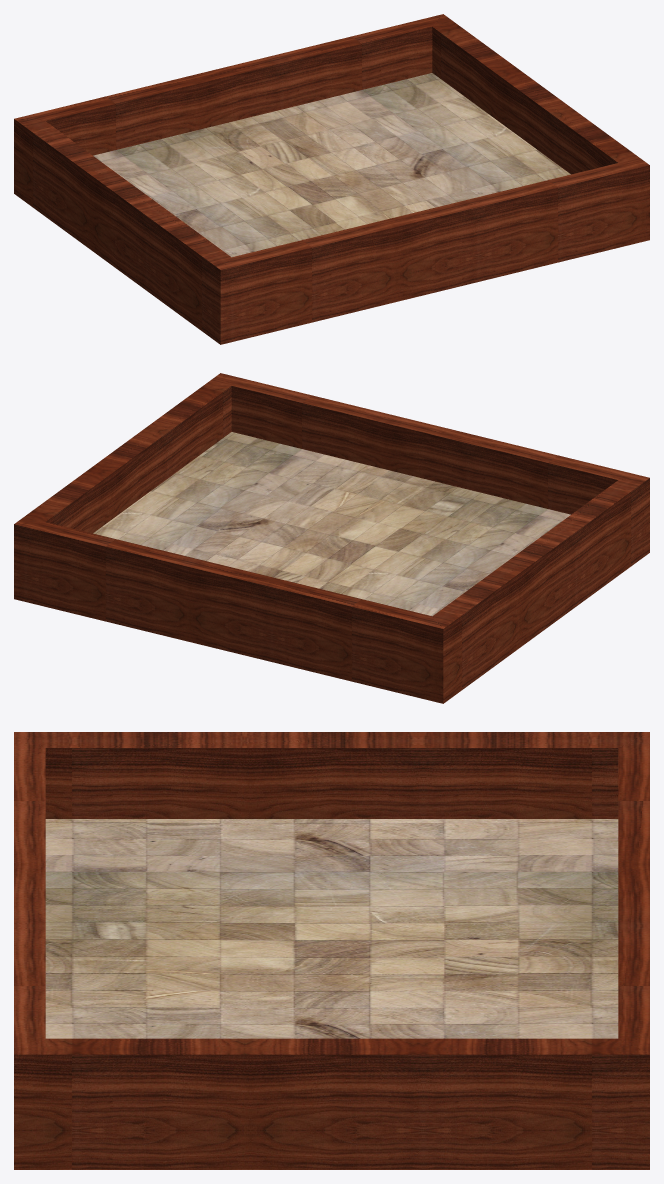
The model's file is diceboard.FBX.
3 views of the same model, one above another, from view 1: azimuth 30°, elevation 25°; view 2: azimuth 150°, elevation 25°; view 3: azimuth 270°, elevation 25° (orthographic). The views are drawn at different scales.
Visible parts, largest first — view 1: Box001; view 2: Box001; view 3: Box001.
Part boxes in pixels (x1,y1,x2,y2): Box001: (14, 14, 649, 344); Box001: (14, 373, 649, 703); Box001: (14, 732, 649, 1169).
Size of the model in its own units: 12 by 2 by 10.
2 materials, 2 textured.
